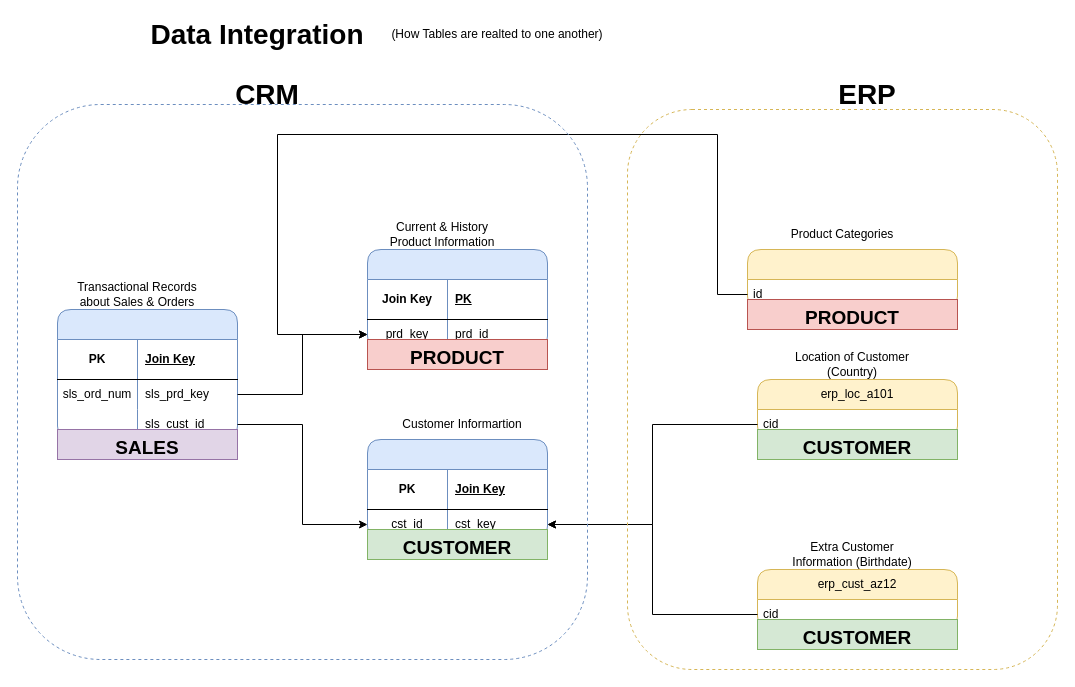
The diagram is 1075 pixels wide and 687 high, and some of its shapes have lost their labels. The box of each missing label's shape, as (x1, y1, x2, y2) in pixels:
crm_cust_info: (366, 438, 548, 540)
crm_prd_info: (366, 248, 548, 350)
crm_sales_details: (56, 308, 238, 440)
erp_px_cat_g1v2: (746, 248, 958, 310)
